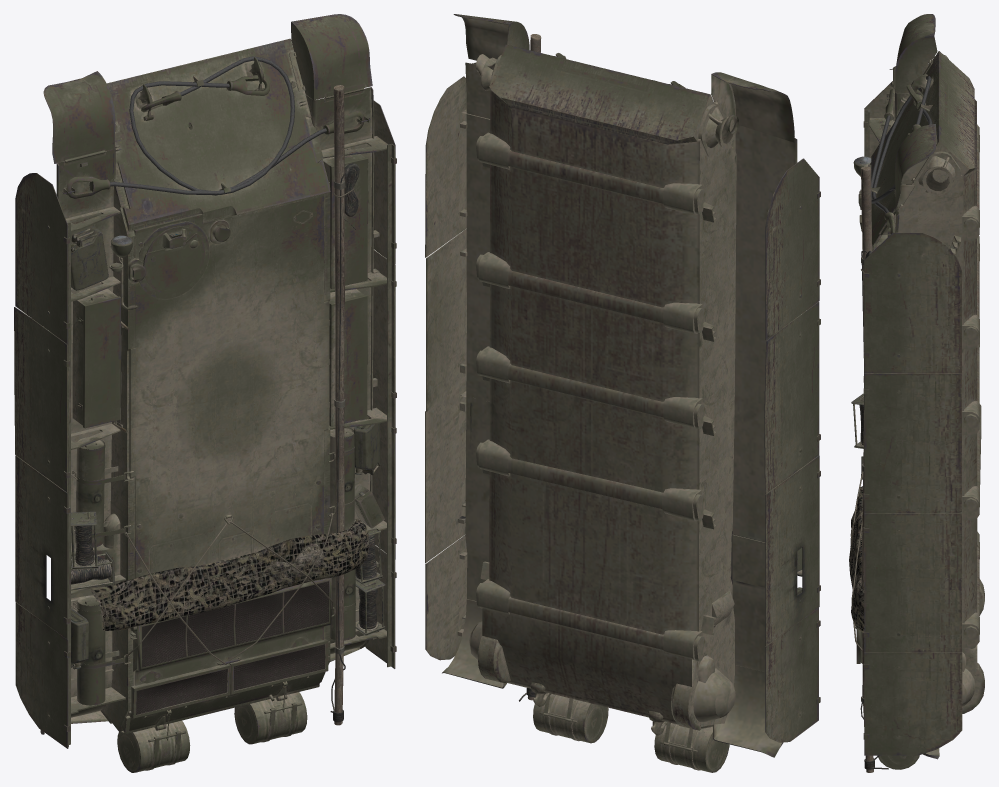
File: Hull.glb
The picture shows the model from 3 angles, left to right: view 1: azimuth 30°, elevation 25°; view 2: azimuth 150°, elevation 25°; view 3: azimuth 270°, elevation 25°; orthographic projection. The views are drawn at different scales.
Visible parts, largest first — view 1: set_0_group_0, set_0_group_1; view 2: set_0_group_0; view 3: set_0_group_0, set_0_group_1.
Boxes of the visible parts, x1,y1,x2,y2 form: set_0_group_0: (14,14,396,772); set_0_group_1: (70,85,385,725); set_0_group_0: (425,14,820,772); set_0_group_0: (853,14,984,769); set_0_group_1: (849,166,888,772).
Size of the model in its own units: 3.26 by 6.51 by 1.23.
Materials: 2 (2 with a texture image).
